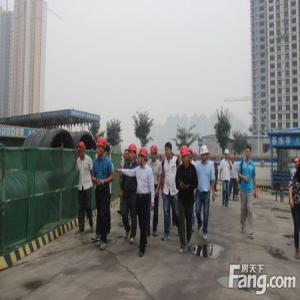none: (164, 142, 174, 159), (245, 145, 253, 159)
red: (96, 138, 108, 159), (138, 149, 150, 167), (181, 146, 191, 166), (129, 145, 139, 161), (150, 146, 159, 162), (77, 144, 86, 157), (193, 152, 198, 162)
white: (200, 147, 209, 163), (224, 150, 230, 161)
